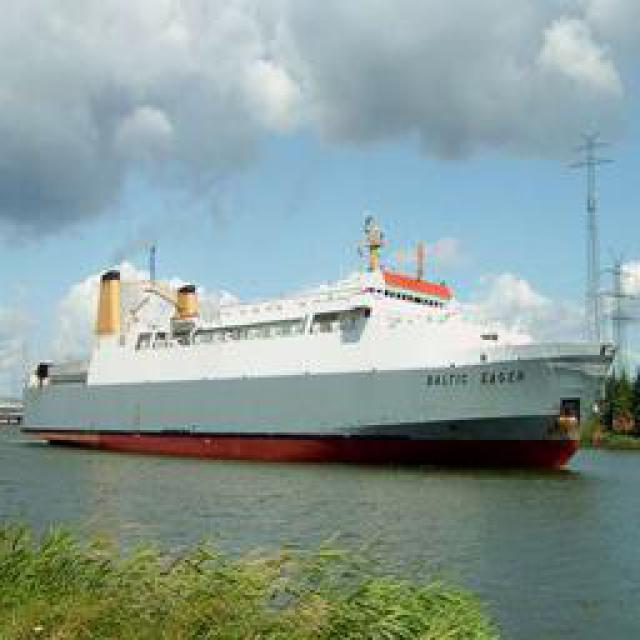Ship: (19, 213, 599, 458)
